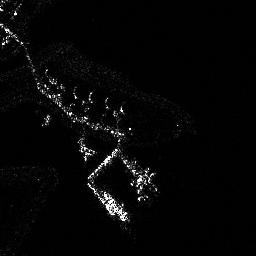ship: (101, 191, 131, 224)
